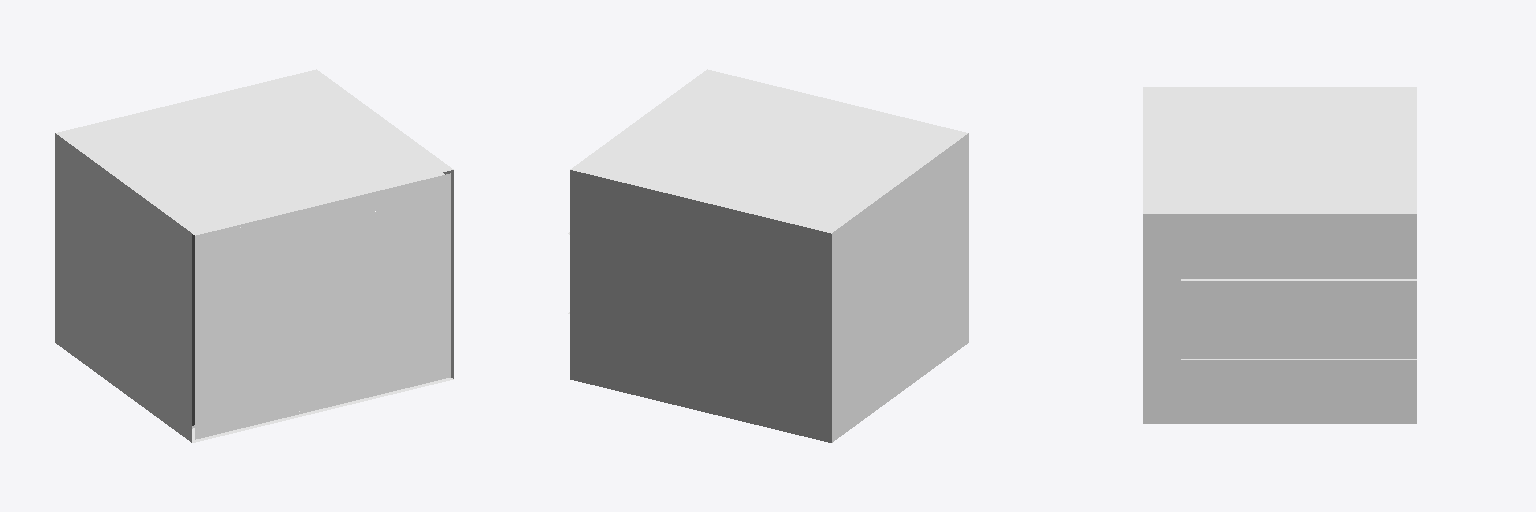
File: testChamber.obj
3 renders of one model, left to right at view 1: azimuth 30°, elevation 25°; view 2: azimuth 150°, elevation 25°; view 3: azimuth 270°, elevation 25°, orthographic.
Visible parts, largest first — view 1: refPlafond, paroix1, paroiy0, caissonx1, caissony0, caissonx0, caissony1, fauxPlafondInf; view 2: dallage, paroix1, paroiy0, caissonx1, caissony0; view 3: paroiy1, paroix1, caissony1, caissonx1.
Boxes of the visible parts, box(x1,y1,x2,y2) form: refPlafond: box(195, 173, 450, 439); paroix1: box(56, 69, 439, 223); paroiy0: box(55, 133, 178, 432); caissonx1: box(180, 160, 453, 233); caissony0: box(179, 224, 191, 442); caissonx0: box(192, 378, 453, 442); caissony1: box(443, 170, 453, 378); fauxPlafondInf: box(192, 234, 194, 425); dallage: box(570, 170, 831, 442); paroix1: box(570, 79, 954, 233); paroiy0: box(832, 144, 954, 442); caissonx1: box(695, 69, 967, 142); caissony0: box(955, 133, 968, 352); paroiy1: box(1169, 214, 1416, 423); paroix1: box(1169, 87, 1416, 213); caissony1: box(1143, 214, 1168, 423); caissonx1: box(1143, 87, 1168, 213).
Bounding box in the file's own units: 2425 × 1840 × 2180.